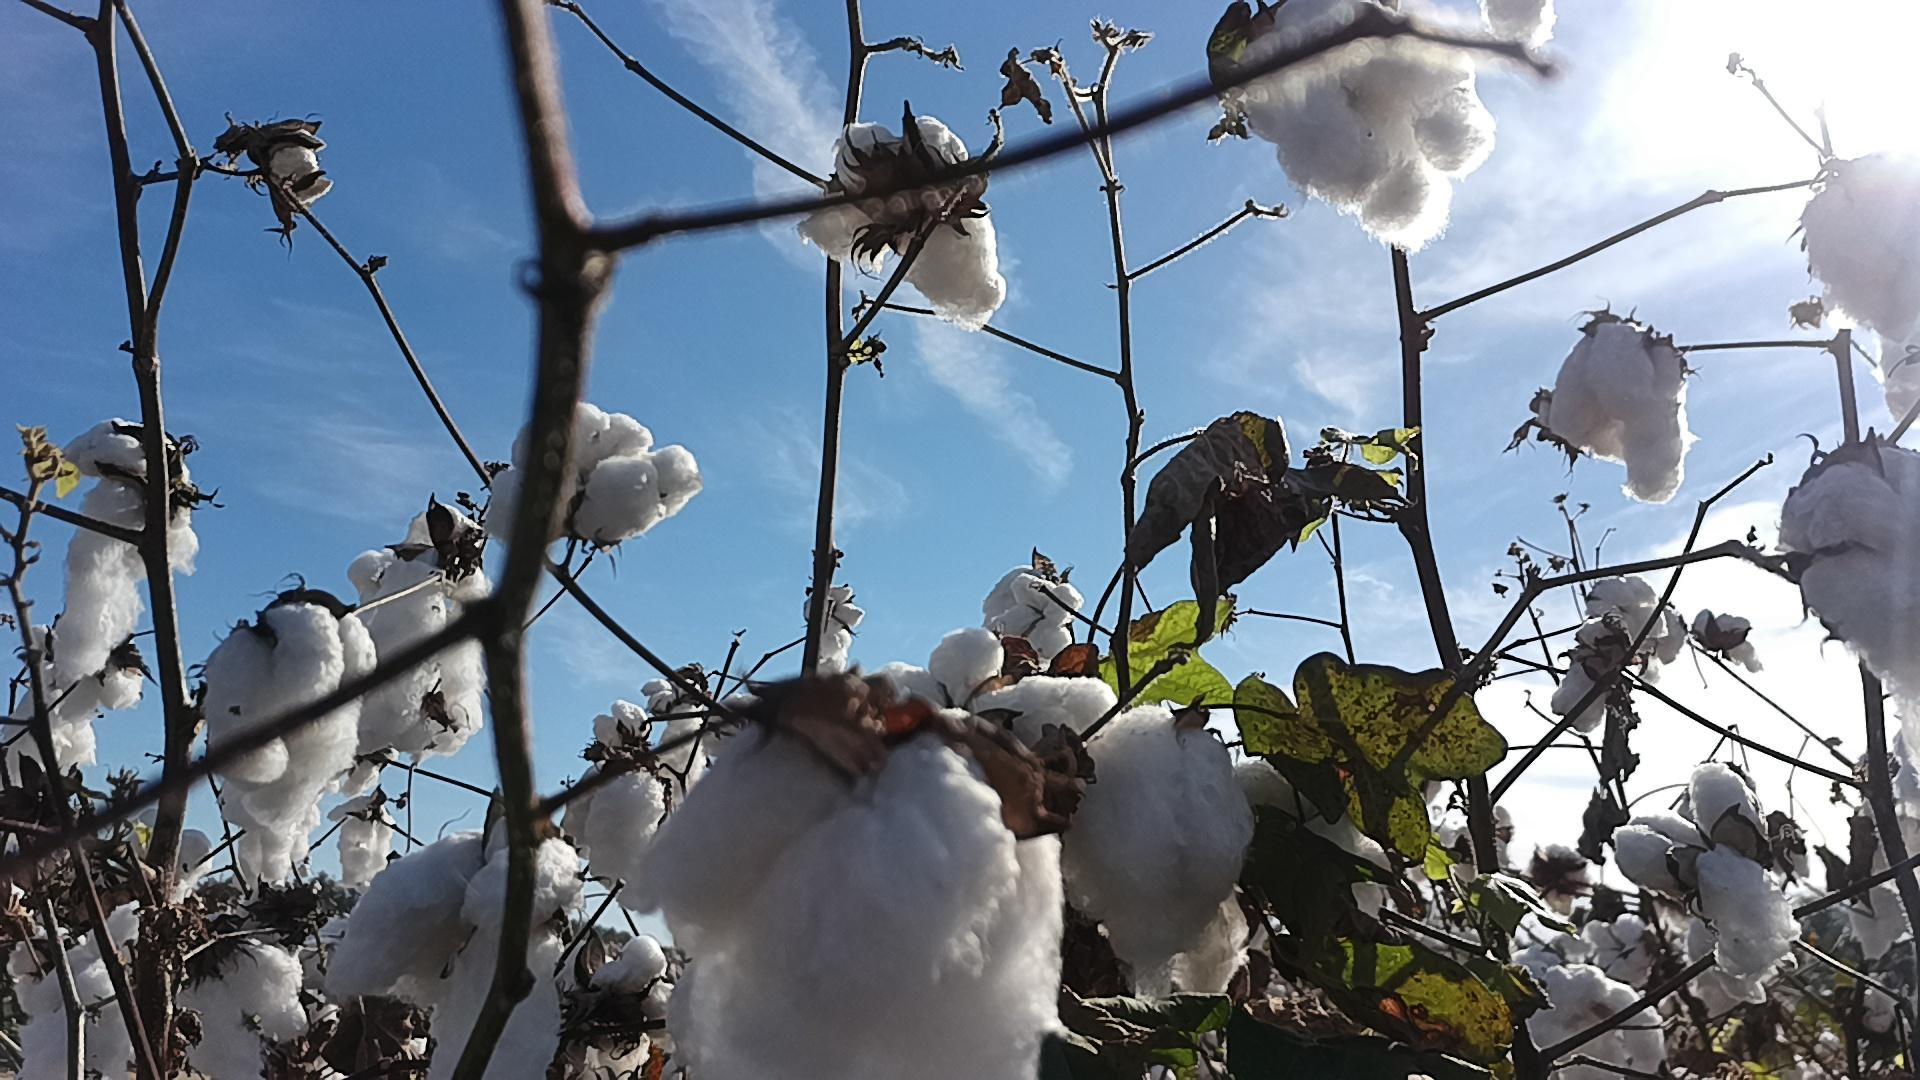cotton_ready: (621, 708, 1065, 1080), (965, 678, 1263, 977), (324, 825, 585, 1080), (1228, 0, 1491, 251), (200, 605, 373, 881), (806, 117, 1010, 328), (1613, 761, 1805, 977), (46, 423, 200, 682), (1783, 435, 1920, 699), (356, 501, 498, 754), (496, 393, 700, 547), (564, 705, 717, 895), (1543, 320, 1693, 502), (1236, 750, 1393, 924), (12, 902, 150, 1080), (1803, 148, 1920, 338), (4, 630, 145, 781), (1549, 578, 1684, 732), (175, 935, 310, 1080), (1523, 965, 1665, 1068), (587, 936, 679, 1079), (1846, 800, 1920, 964), (876, 626, 1005, 703), (985, 568, 1081, 655), (244, 121, 320, 186), (1875, 327, 1920, 425), (1480, 0, 1557, 41)
